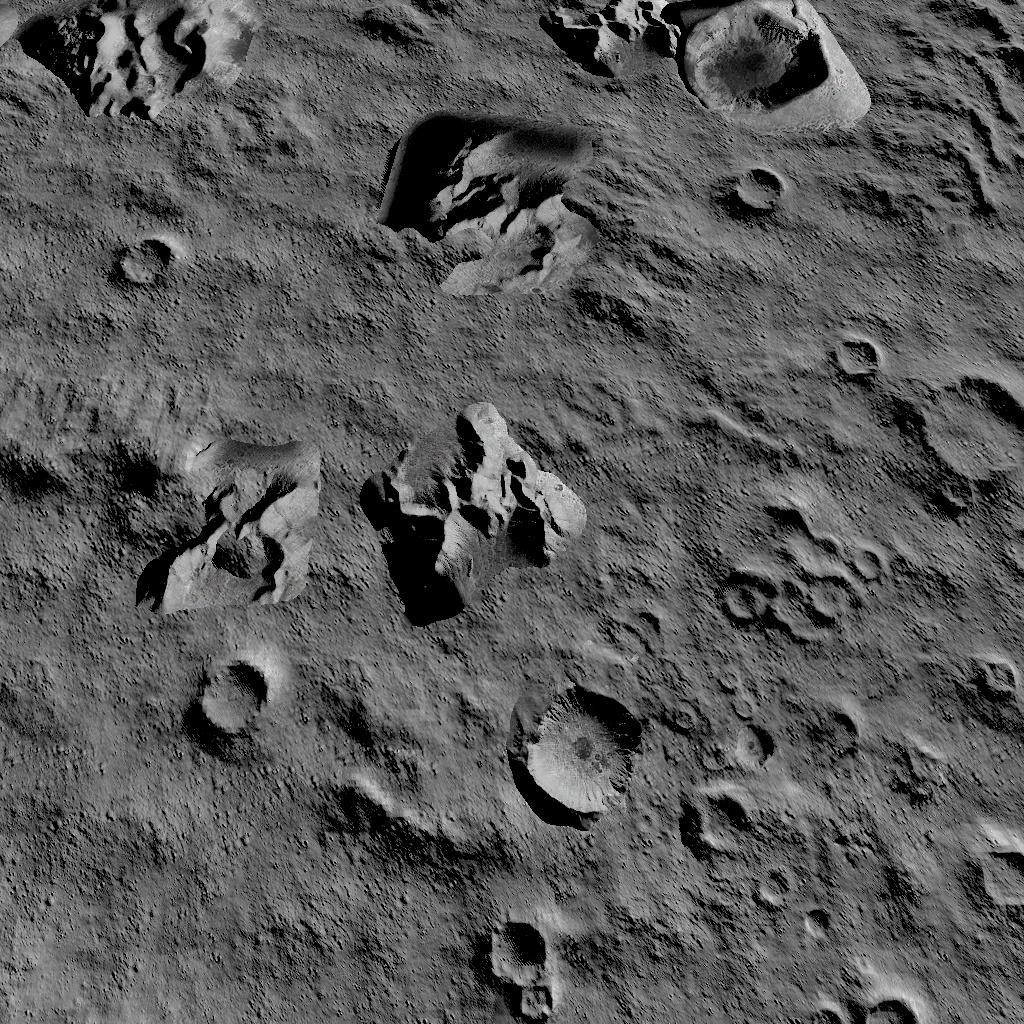Boulders: (0, 375, 321, 615), (381, 112, 698, 346), (360, 402, 586, 626), (541, 0, 855, 103), (0, 2, 258, 122)
Crater: (878, 0, 1024, 235), (721, 512, 888, 638), (521, 685, 648, 823), (921, 372, 1024, 518), (480, 918, 560, 1024), (194, 652, 276, 746), (688, 782, 758, 862), (726, 165, 785, 220), (804, 998, 928, 1024), (118, 238, 173, 292), (831, 332, 885, 386)
Plan surface: (0, 630, 180, 1024), (194, 868, 470, 1024), (188, 175, 366, 363)
